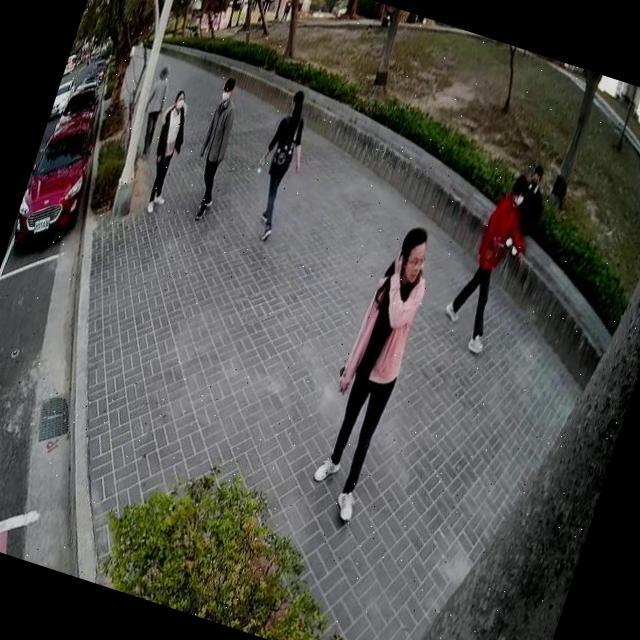person: (295, 208, 450, 529), (434, 161, 553, 362), (236, 80, 328, 246), (180, 71, 256, 225), (131, 78, 204, 218), (502, 158, 560, 258), (126, 58, 181, 163)
